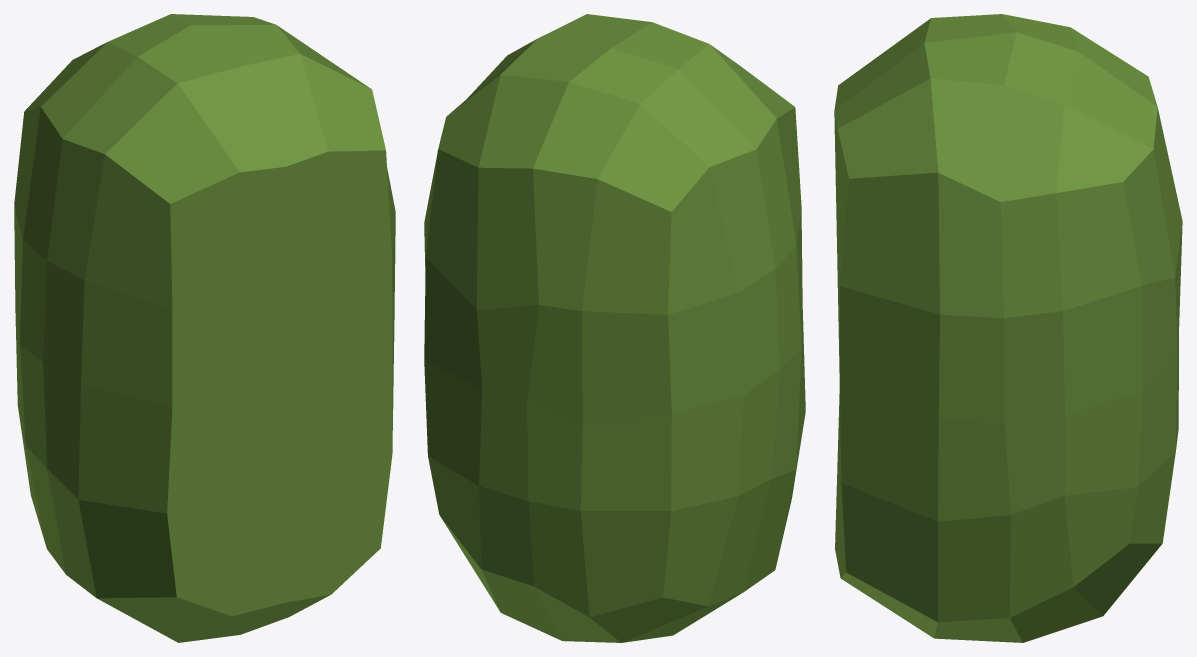
Rendered from Bush_4.fbx.
The picture shows the model from 3 angles, left to right: view 1: azimuth 30°, elevation 25°; view 2: azimuth 150°, elevation 25°; view 3: azimuth 270°, elevation 25°; orthographic projection.
Visible parts, largest first — view 1: Bush_4; view 2: Bush_4; view 3: Bush_4.
Part boxes in pixels (x1=…): Bush_4: x1=14, y1=14, x2=395, y2=642; Bush_4: x1=424, y1=14, x2=805, y2=642; Bush_4: x1=834, y1=14, x2=1182, y2=642.
Size of the model in its own units: 182 by 310 by 167.
